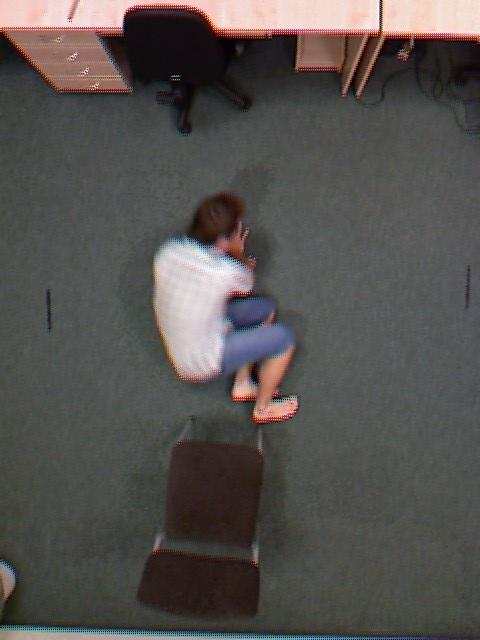fall: (134, 205, 313, 410)
